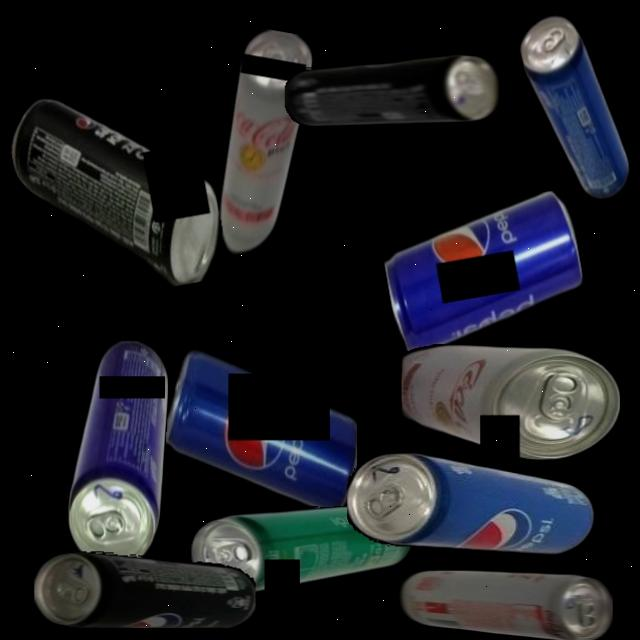debris: (3, 71, 230, 310), (377, 188, 591, 356), (164, 348, 357, 513), (208, 26, 317, 263), (347, 451, 595, 554), (400, 344, 620, 460), (515, 7, 635, 208), (67, 340, 168, 567), (191, 503, 413, 593), (34, 550, 256, 628), (284, 54, 499, 127), (391, 570, 612, 640)
